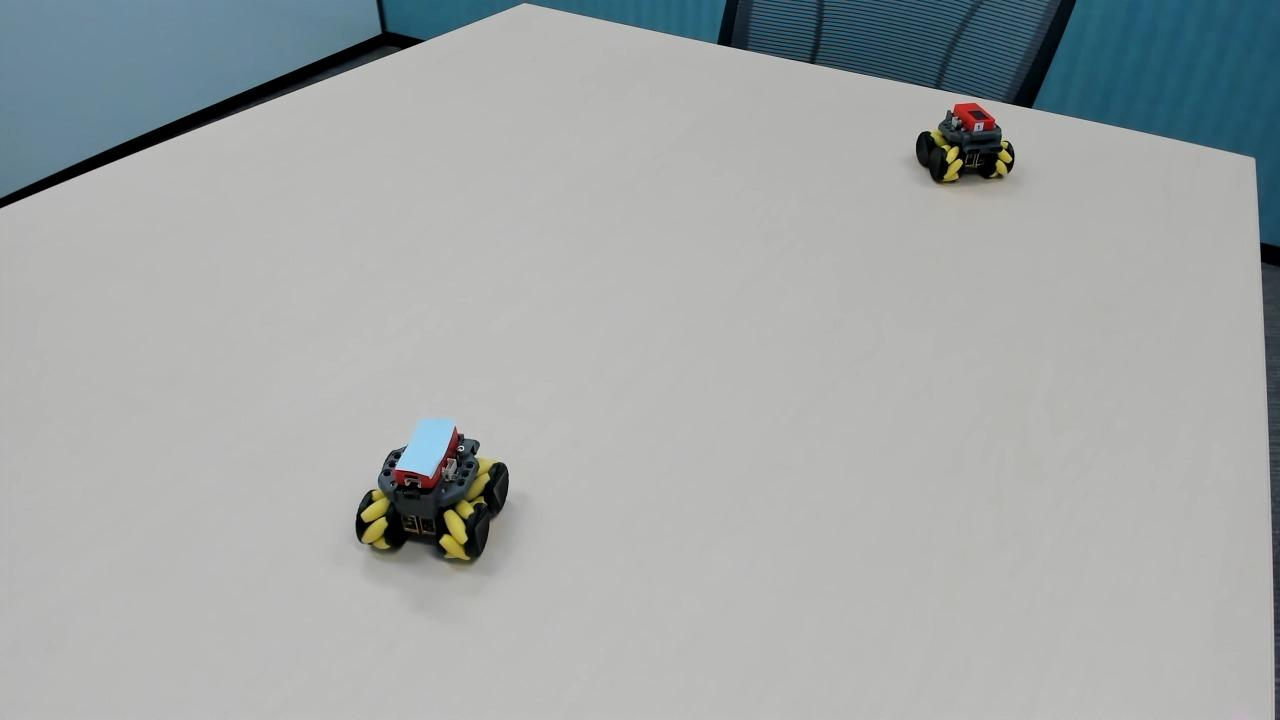B-Robot: (338, 405, 528, 582)
R-Robot: (916, 96, 1028, 199)
